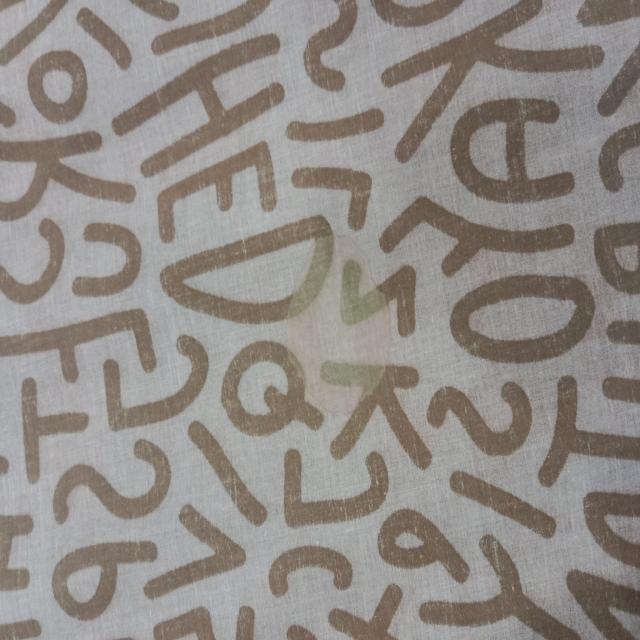stain: (279, 225, 398, 427)
